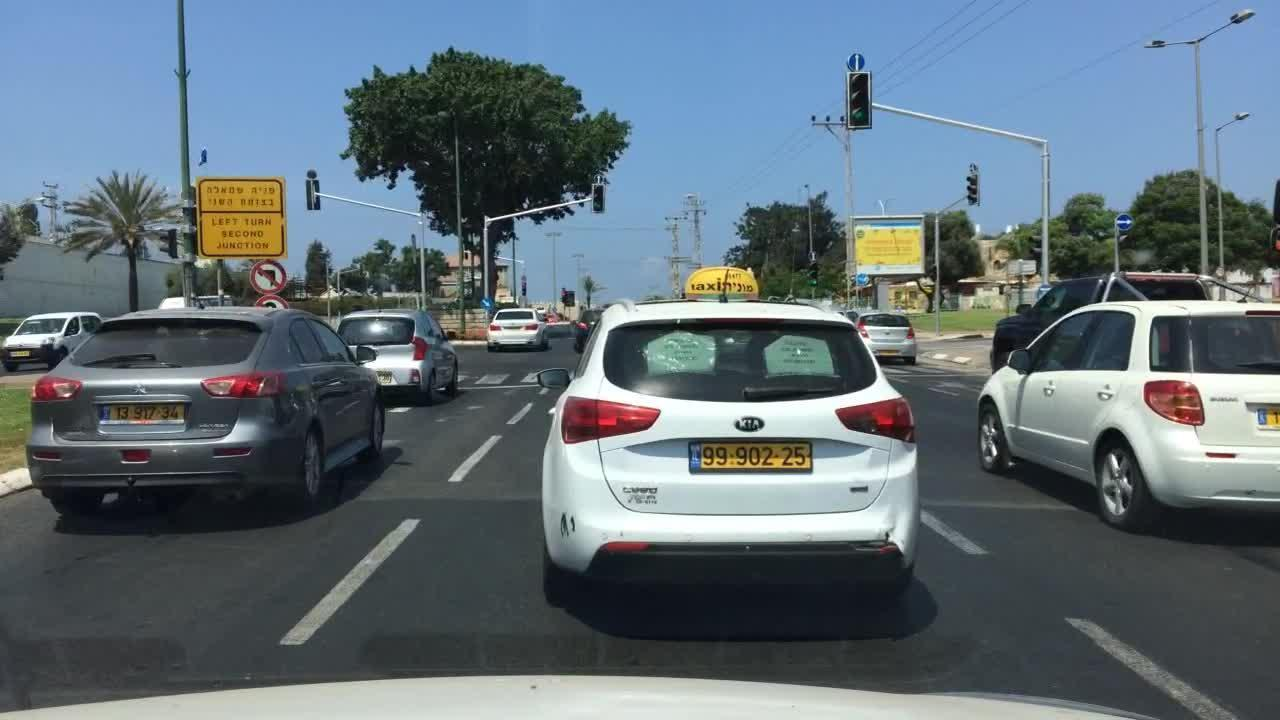Mitsubishi: (128, 380, 153, 400)
kia: (729, 413, 769, 433)
